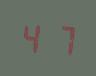four: (19, 18, 46, 55)
seven: (47, 19, 74, 57)
